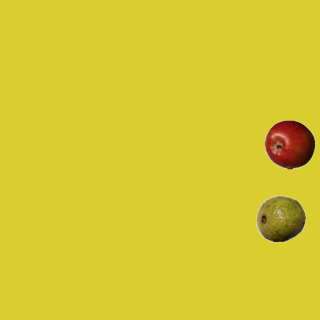Apple Braeburn: (264, 119, 314, 169)
Guava: (255, 193, 305, 243)
